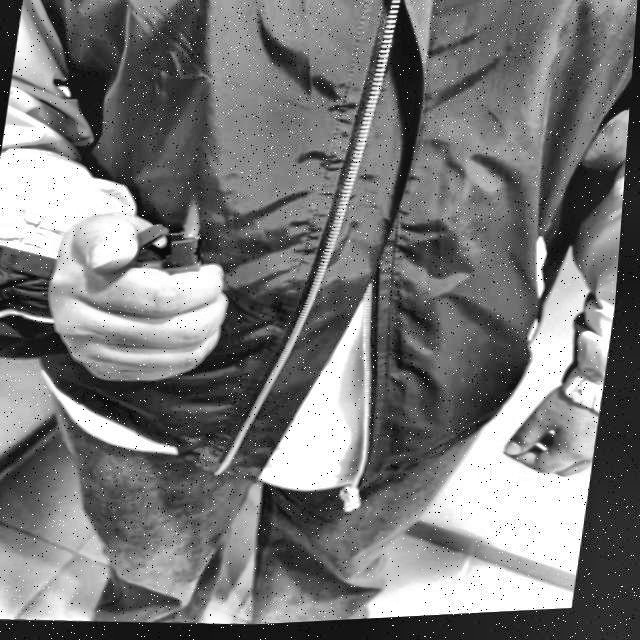Fire: (183, 199, 206, 240)
